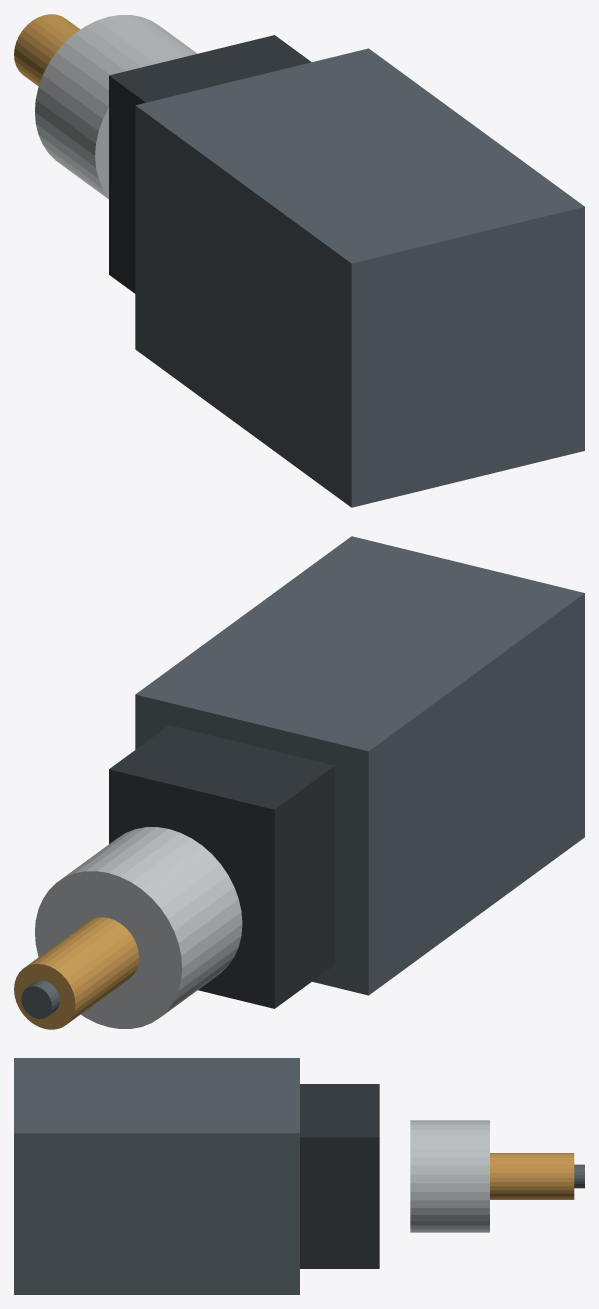
Rendered from 11_laser_head.glb.
3 views of the same model, one above another, from view 1: azimuth 30°, elevation 25°; view 2: azimuth 150°, elevation 25°; view 3: azimuth 270°, elevation 25° (orthographic). The views are drawn at different scales.
Parts seen in each view (by area): view 1: 11_laser_head_0, 11_laser_head_2, 11_laser_head_1, 11_laser_head_3; view 2: 11_laser_head_0, 11_laser_head_1, 11_laser_head_2, 11_laser_head_3, 11_laser_head_4; view 3: 11_laser_head_0, 11_laser_head_1, 11_laser_head_2, 11_laser_head_3.
Part boxes in pixels (bbox=[...]): 11_laser_head_0: bbox=[135, 48, 584, 507]; 11_laser_head_2: bbox=[35, 15, 197, 199]; 11_laser_head_1: bbox=[109, 35, 311, 293]; 11_laser_head_3: bbox=[14, 14, 80, 86]; 11_laser_head_0: bbox=[135, 536, 584, 995]; 11_laser_head_1: bbox=[109, 725, 334, 1008]; 11_laser_head_2: bbox=[35, 827, 242, 1028]; 11_laser_head_3: bbox=[14, 917, 139, 1029]; 11_laser_head_4: bbox=[21, 980, 59, 1018]; 11_laser_head_0: bbox=[14, 1058, 299, 1294]; 11_laser_head_1: bbox=[300, 1084, 379, 1268]; 11_laser_head_2: bbox=[410, 1120, 489, 1232]; 11_laser_head_3: bbox=[490, 1153, 574, 1199].
Size of the model in its own units: 76 by 76 by 244.
